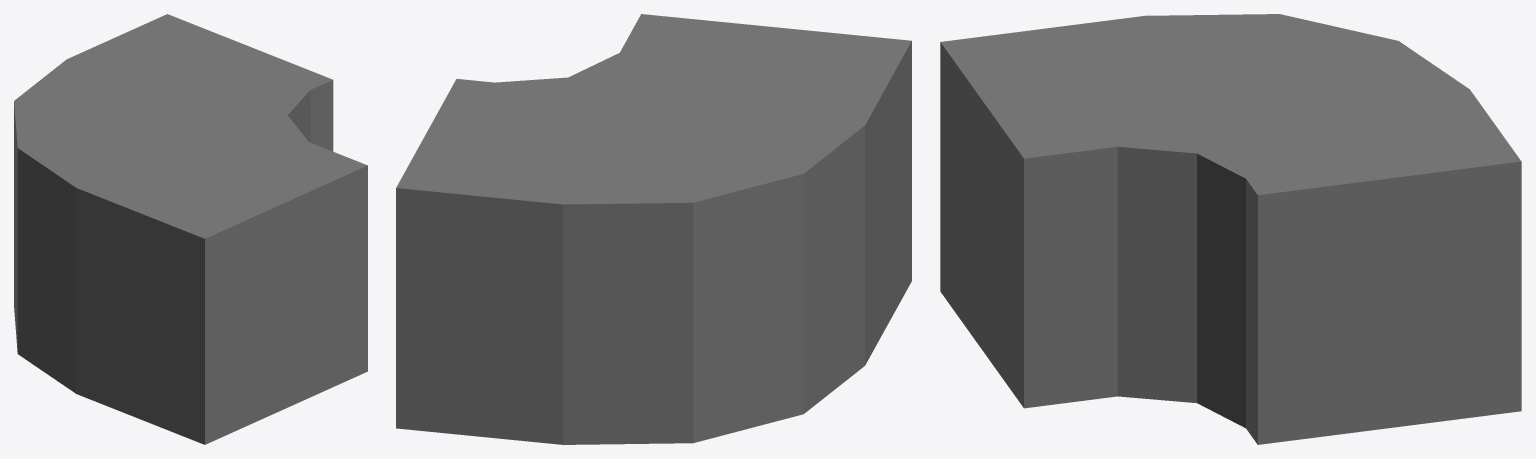
Rendered from Building Vent turn 3.fbx.
3 renders of one model, left to right at view 1: azimuth 30°, elevation 25°; view 2: azimuth 150°, elevation 25°; view 3: azimuth 270°, elevation 25°, orthographic. The views are drawn at different scales.
Parts seen in each view (by area): view 1: Building Vent turn 3; view 2: Building Vent turn 3; view 3: Building Vent turn 3.
Boxes of the visible parts, bbox=[...] form: Building Vent turn 3: bbox=[14, 14, 367, 444]; Building Vent turn 3: bbox=[396, 14, 911, 444]; Building Vent turn 3: bbox=[940, 14, 1521, 444].
Bounding box in the file's own units: 168 × 228 × 108.
